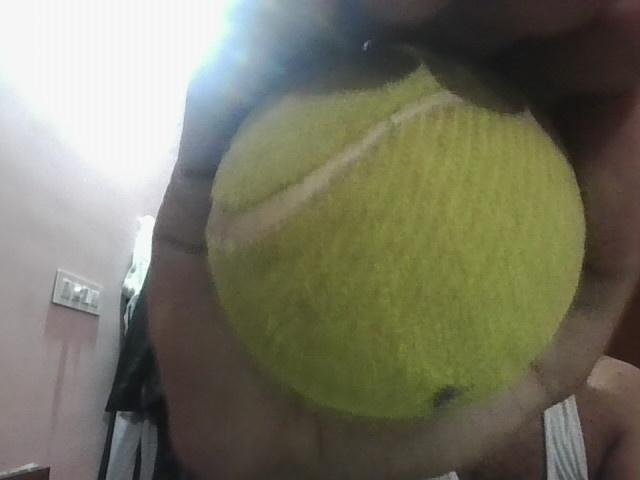greenball: (128, 96, 512, 384)
